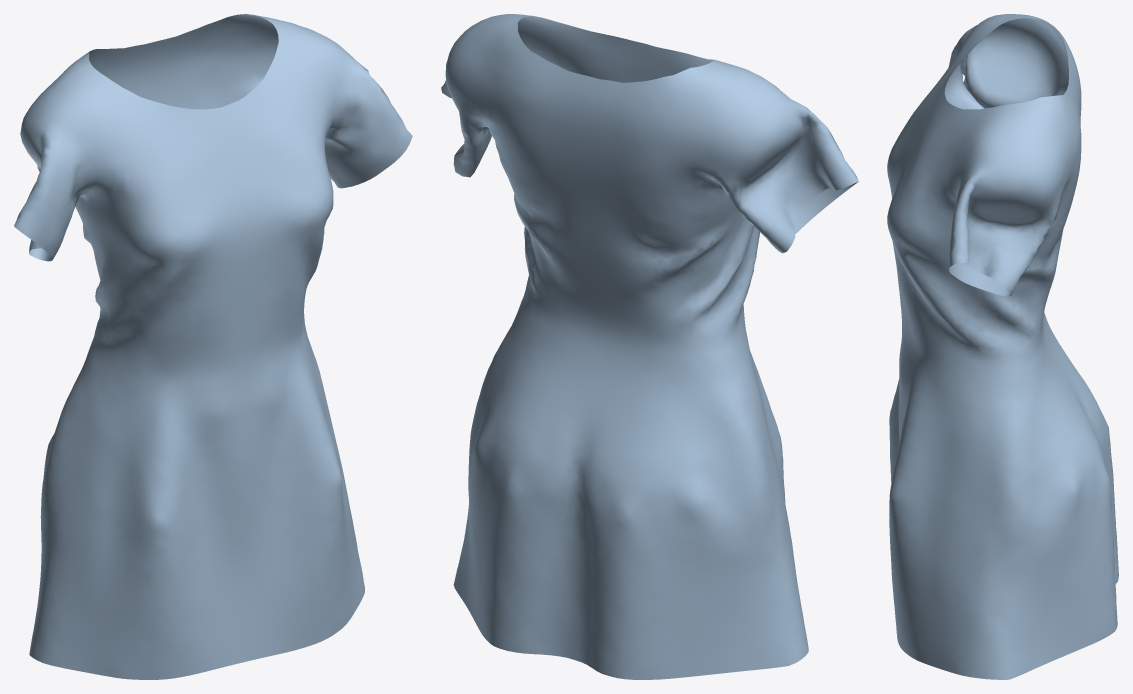
The model's file is dress_S.glb.
3 views of the same model, side by side, from view 1: azimuth 30°, elevation 25°; view 2: azimuth 150°, elevation 25°; view 3: azimuth 270°, elevation 25° (orthographic). The views are drawn at different scales.
Visible parts, largest first — view 1: geometry_0; view 2: geometry_0; view 3: geometry_0.
Boxes of the visible parts, box(x1,y1,x2,y2) form: geometry_0: box(14, 14, 412, 679); geometry_0: box(441, 14, 858, 679); geometry_0: box(887, 14, 1118, 679).
Bounding box in the file's own units: 0.5364 × 0.739 × 0.2807.
